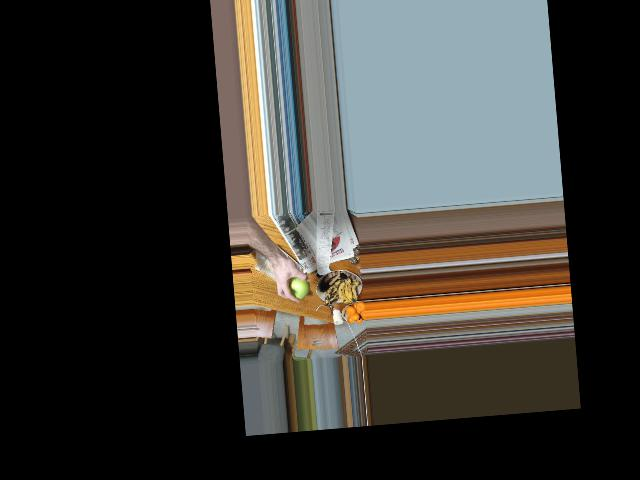apple: (285, 272, 311, 303)
